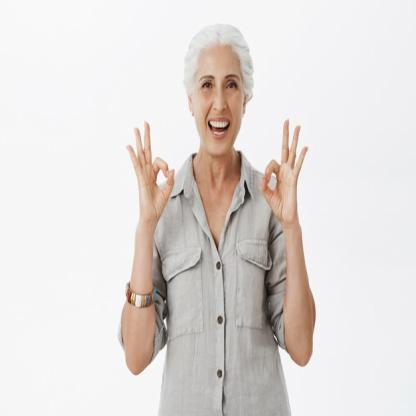ok: (257, 116, 310, 223), (124, 116, 176, 224)
